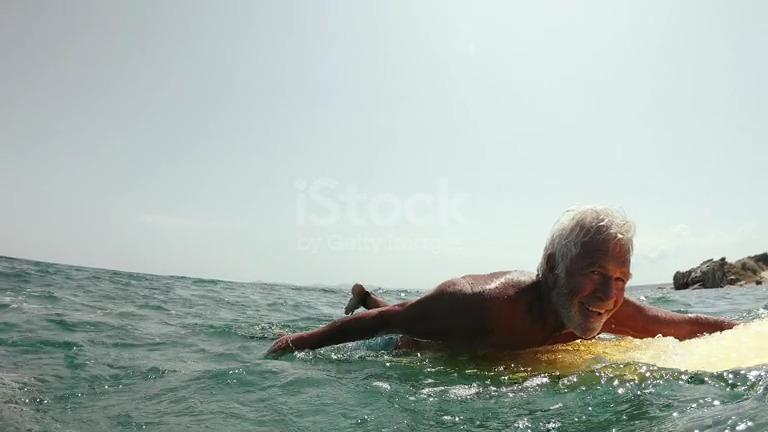Swimming: (220, 161, 733, 380)
